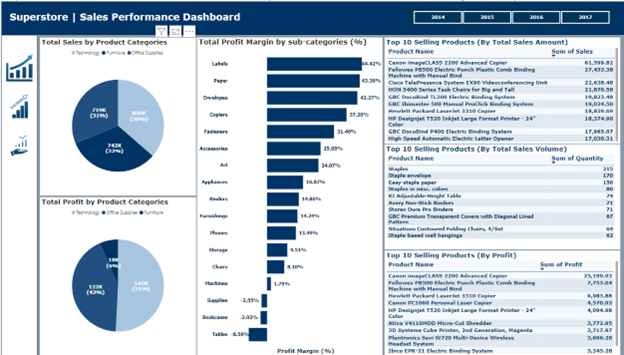

This screenshot's page, from the dashboard's own definition file:
{"tool":"powerbi","page":{"name":"2","canvas":[1750,1000],"ordinal":1},"visuals":[{"type":"shape","box":[0,0,1749.3,93.8],"z":0},{"type":"textbox","box":[11,20.6,671,63.1],"z":1000},{"type":"slicer","fields":{"Values":["Orders.Order Date.Variation.Date Hierarchy.Year"]},"box":[1132.7,20.1,600,50.3],"z":2000},{"type":"clusteredBarChart","title":"Total Profit Margin by sub-categories (%)","fields":{"Category":["Orders.Sub-Category"],"Y":["Orders.Profit Margin"]},"box":[549.6,100.5,521.1,893.1],"z":4000},{"type":"pieChart","title":"Total Sales by Product Categories","fields":{"Y":["Sum(Orders.Sales)"],"Category":["Orders.Category"]},"box":[107.2,100.5,439,444],"z":5000},{"type":"pieChart","title":"Total Profit by Product Categories","fields":{"Y":["Sum(Orders.Profit)"],"Category":["Orders.Category"]},"box":[107.2,549.6,439,444],"z":6000},{"type":"tableEx","title":"Top 10 Selling Products (By Total Sales Amount)","fields":{"Values":["Orders.Product Name","Sum(Orders.Sales)"]},"box":[1075.8,100.8,661.7,297.5],"z":7000},{"type":"tableEx","title":"Top 10 Selling Products (By Total Sales Volume)","fields":{"Values":["Orders.Product Name","Sum(Orders.Quantity)"]},"box":[1076.2,400.8,661.5,294.6],"z":8000},{"type":"tableEx","title":"Top 10 Selling Products (By Profit)","fields":{"Values":["Orders.Product Name","Sum(Orders.Profit)"]},"box":[1076.2,698.5,661.5,294.6],"z":9000},{"type":"shape","box":[0,93.9,100.9,906.5],"z":9001},{"type":"image","box":[5.6,144.3,88.3,85.5],"z":9002},{"type":"image","box":[5.7,256.4,88.2,75.8],"z":9003},{"type":"image","box":[5.5,369.8,88.5,68.7],"z":9004}]}

Visuals, with their boxes in screenshot pixels (x1, y1, x2, y2), scaled from the page's 1750x1000 canvas onto the 624x355 screenshot:
shape: crop(0, 0, 623, 33)
textbox: crop(4, 7, 243, 30)
slicer - Orders.Order Date.Variation.Date Hierarchy.Year: crop(404, 7, 618, 25)
"Total Profit Margin by sub-categories (%)" clusteredBarChart: crop(196, 36, 382, 353)
"Total Sales by Product Categories" pieChart: crop(38, 36, 195, 193)
"Total Profit by Product Categories" pieChart: crop(38, 195, 195, 353)
"Top 10 Selling Products (By Total Sales Amount)" tableEx: crop(384, 36, 620, 141)
"Top 10 Selling Products (By Total Sales Volume)" tableEx: crop(384, 142, 620, 247)
"Top 10 Selling Products (By Profit)" tableEx: crop(384, 248, 620, 353)
shape: crop(0, 33, 36, 354)
image: crop(2, 51, 33, 82)
image: crop(2, 91, 33, 118)
image: crop(2, 131, 34, 156)
